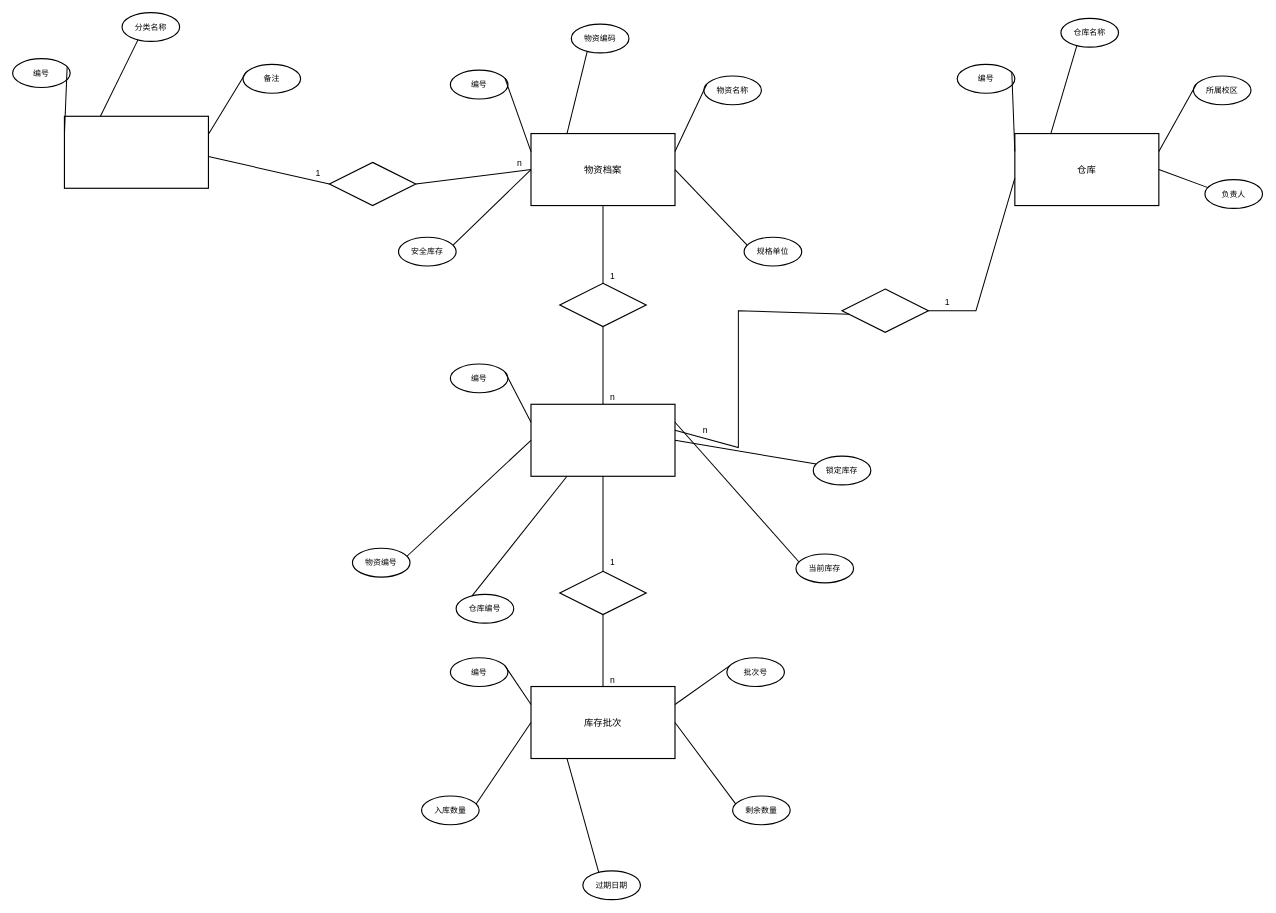
Some shapes in this 1276 by 913 pixel diagram are drawn without their labels. The centre of each missing label's shape, as x and y in pixels:
存放: [885,310]
库存: [602,439]
归类: [372,183]
形成: [602,304]
物资分类: [136,151]
细分: [602,592]
